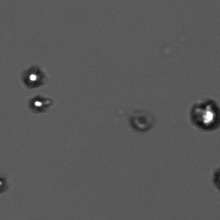Dead Cell: (125, 108, 157, 134)
Living Cell: (187, 96, 220, 132), (19, 62, 48, 91), (25, 93, 54, 113)
